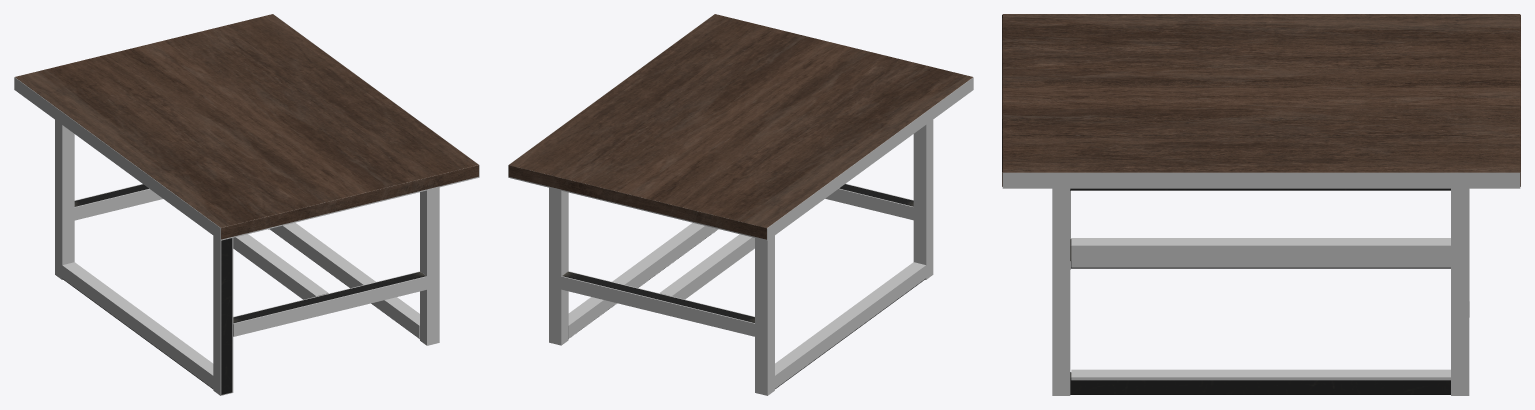
The model's file is SM_Table_01_A.fbx.
3 views of the same model, side by side, from view 1: azimuth 30°, elevation 25°; view 2: azimuth 150°, elevation 25°; view 3: azimuth 270°, elevation 25° (orthographic). The views are drawn at different scales.
Visible parts, largest first — view 1: SM_Table_01_A, SM_Table_01_A_ConvexHulls; view 2: SM_Table_01_A, SM_Table_01_A_ConvexHulls; view 3: SM_Table_01_A, SM_Table_01_A_ConvexHulls.
Part boxes in pixels (x1,y1,x2,y2): SM_Table_01_A: [15, 14, 478, 394]; SM_Table_01_A_ConvexHulls: [14, 14, 479, 395]; SM_Table_01_A: [508, 14, 972, 388]; SM_Table_01_A_ConvexHulls: [508, 14, 973, 395]; SM_Table_01_A: [1002, 14, 1520, 394]; SM_Table_01_A_ConvexHulls: [1002, 172, 1520, 395].
Size of the model in its own units: 108 by 150 by 75.1.
